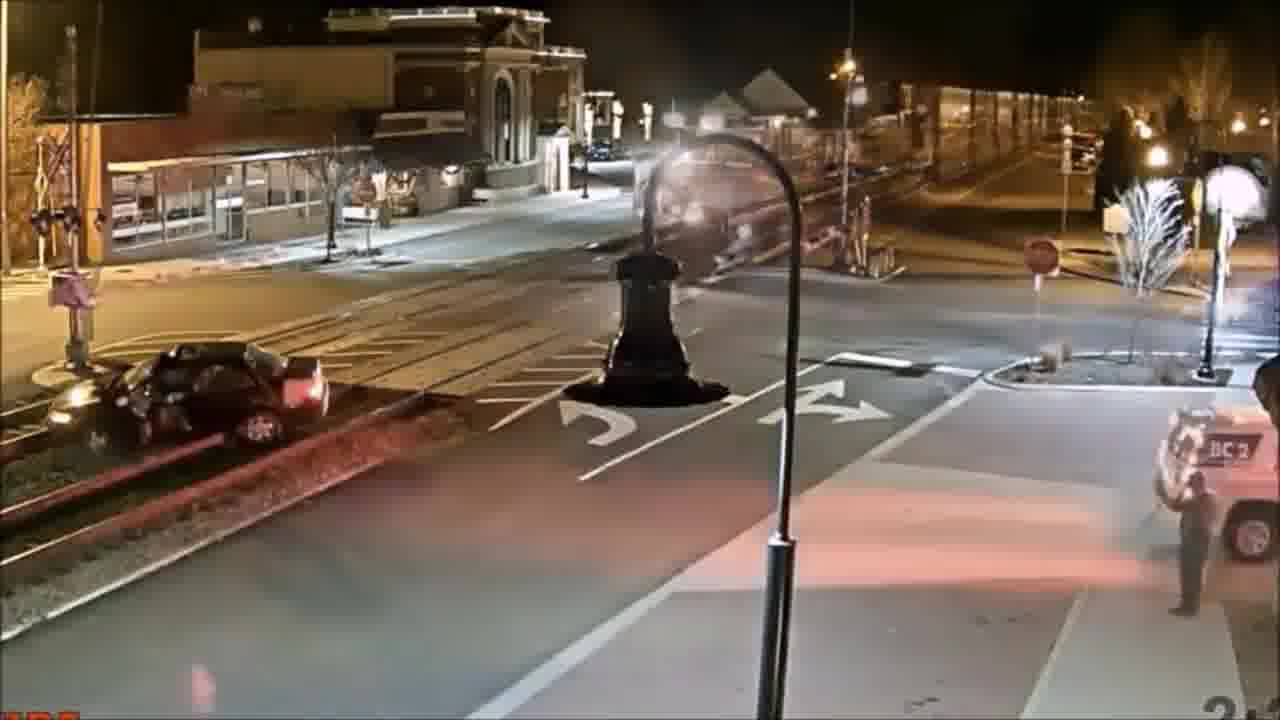crossing railway track: (42, 328, 326, 473)
